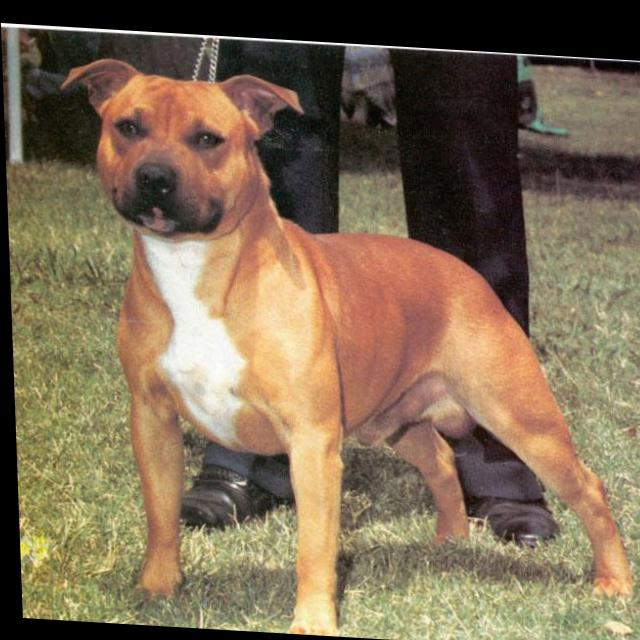staffford: (57, 53, 632, 640)
